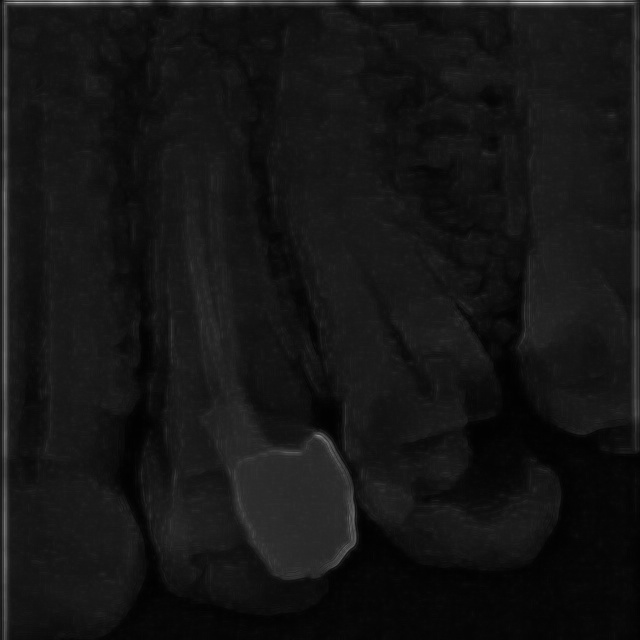Class 1- complete endodontic treatment: (88, 22, 367, 632)
cavity: (252, 22, 606, 579)
